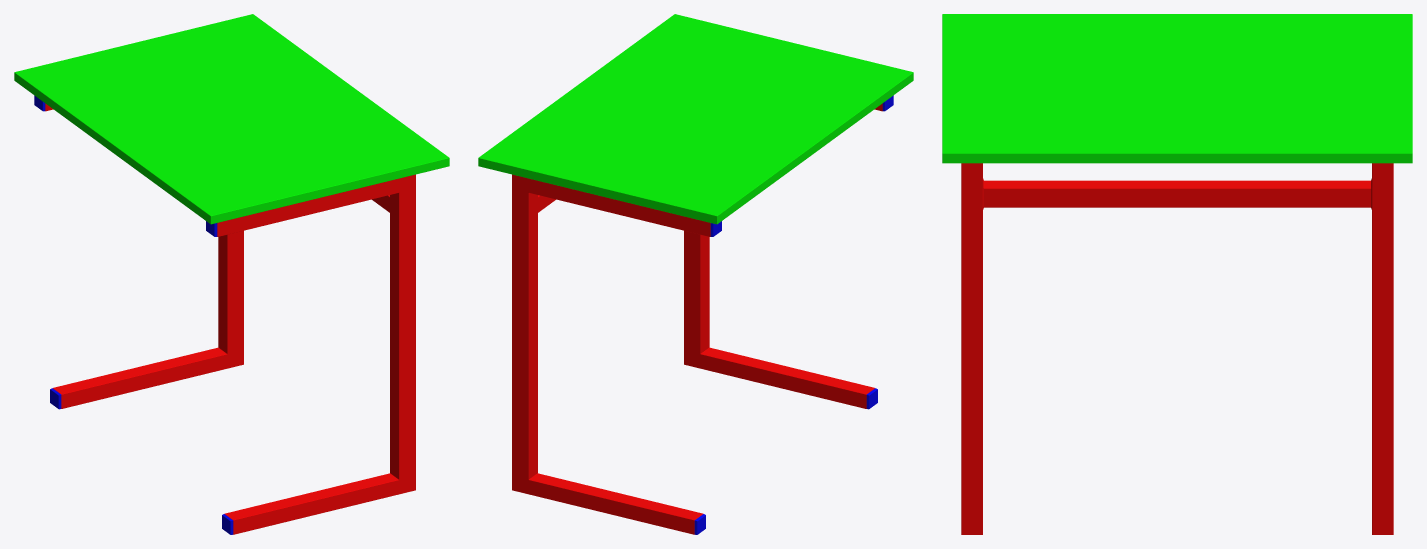
Rendered from HanzeTablehighdef.fbx.
3 renders of one model, left to right at view 1: azimuth 30°, elevation 25°; view 2: azimuth 150°, elevation 25°; view 3: azimuth 270°, elevation 25°, orthographic. The views are drawn at different scales.
Visible parts, largest first — view 1: TableTop, TableBase; view 2: TableTop, TableBase; view 3: TableTop, TableBase.
Boxes of the visible parts, <box> form: TableTop: <box>14,14,449,224</box>; TableBase: <box>34,95,415,534</box>; TableTop: <box>478,14,913,224</box>; TableBase: <box>512,95,893,534</box>; TableTop: <box>942,14,1412,163</box>; TableBase: <box>961,163,1393,534</box>.
Size of the model in its own units: 114 by 79.98 by 106.
